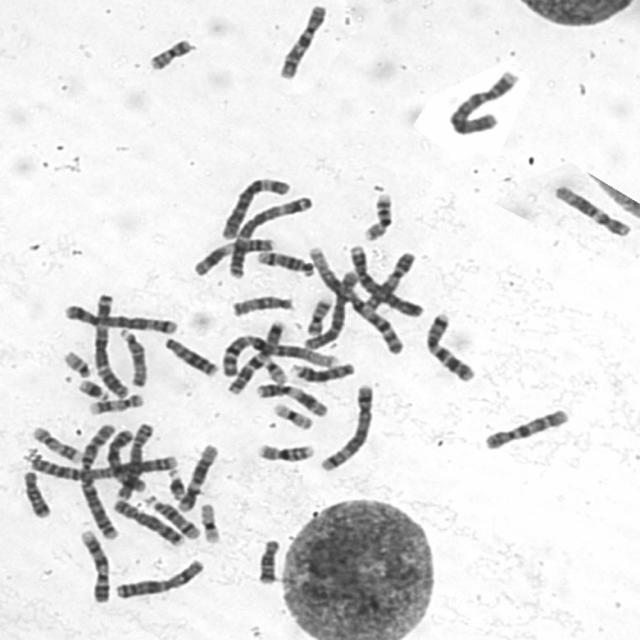A1: (303, 243, 407, 358), (218, 331, 339, 382)
A2: (76, 425, 121, 541), (26, 450, 149, 489)
A3: (223, 193, 314, 280), (90, 289, 130, 399)
B4: (348, 241, 424, 318), (445, 67, 521, 137)
B5: (316, 382, 376, 472), (60, 302, 178, 336)
C10: (274, 3, 330, 81), (480, 405, 570, 452)
C11: (189, 235, 277, 278), (252, 381, 330, 418)
C12: (550, 182, 632, 238), (174, 441, 220, 513)
C6: (218, 174, 293, 241), (304, 272, 367, 348)
C7: (420, 309, 477, 383), (229, 323, 286, 395)
C8: (111, 497, 186, 548), (118, 421, 161, 499)
C9: (356, 253, 414, 315), (77, 526, 111, 604)
D13: (160, 335, 220, 378), (288, 359, 356, 384)
D14: (142, 494, 200, 540), (254, 247, 316, 277)
D15: (115, 326, 148, 388), (228, 292, 296, 318)
E16: (360, 188, 394, 242), (253, 440, 315, 464)
E17: (29, 424, 83, 464), (86, 391, 144, 416)
E18: (20, 468, 52, 519), (254, 536, 283, 586)
F19: (270, 400, 314, 430), (197, 501, 222, 545)
F20: (145, 35, 197, 71), (303, 296, 334, 338)
G21: (76, 377, 110, 402), (165, 467, 187, 501)
G22: (59, 348, 92, 379), (262, 358, 288, 385)
X: (112, 556, 206, 600), (110, 432, 154, 494)
